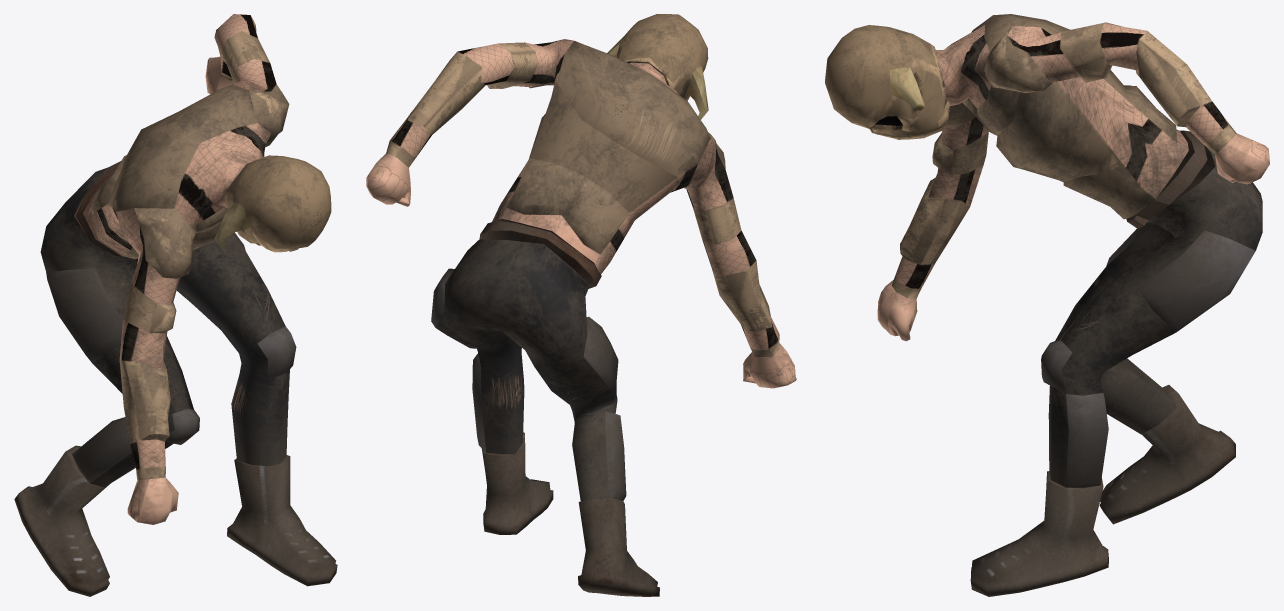
Rendered from Anim_cogerobjeto_npc1.0026.obj.
The picture shows the model from 3 angles, left to right: view 1: azimuth 30°, elevation 25°; view 2: azimuth 150°, elevation 25°; view 3: azimuth 270°, elevation 25°; orthographic projection. The views are drawn at different scales.
Parts seen in each view (by area): view 1: NPC2; view 2: NPC2; view 3: NPC2.
Part boxes in pixels (box(x1,y1,x2,y2)): NPC2: box(14, 14, 337, 596); NPC2: box(366, 14, 796, 596); NPC2: box(825, 14, 1269, 596).
Size of the model in its own units: 3.68 by 6.82 by 4.83.
